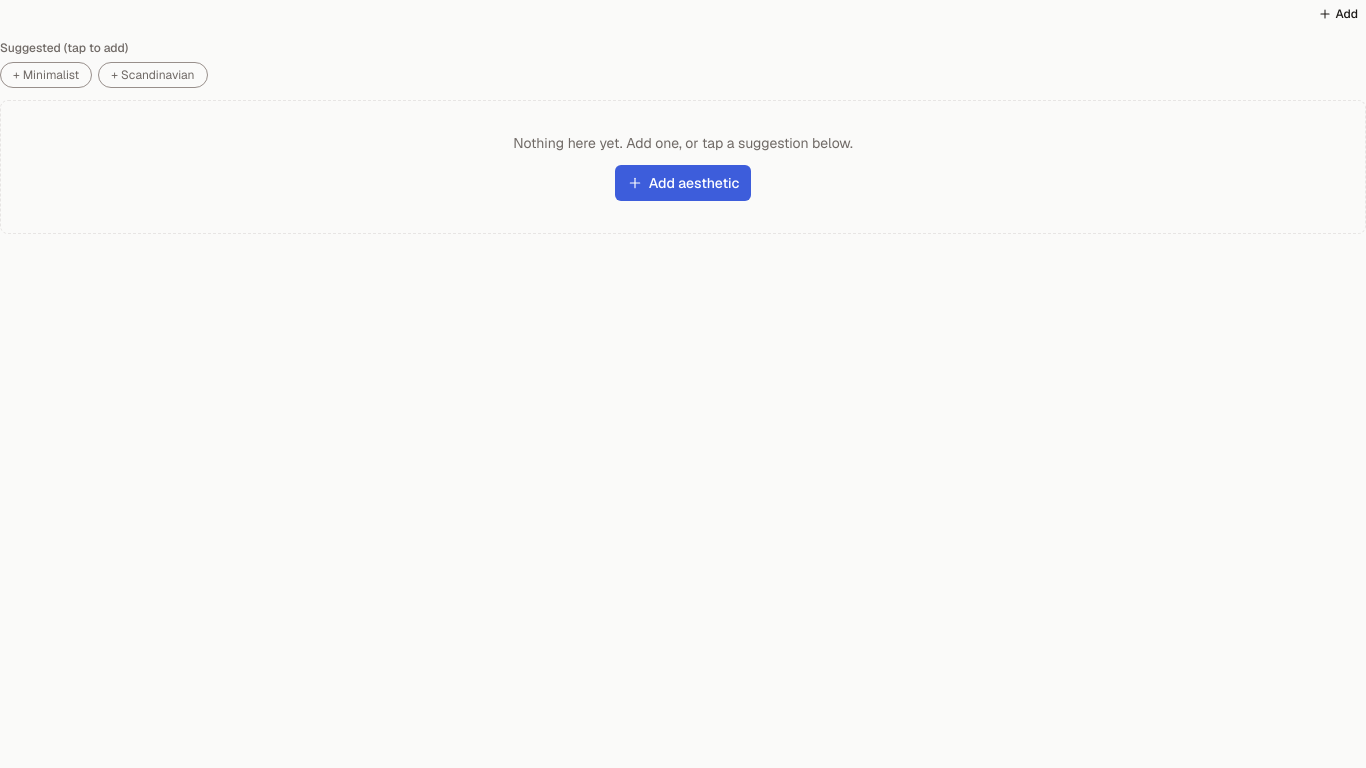
it: ListRenderer › uses node.title, when present, for the Add dialog heading in preference to node.entity
This screenshot has width=1366, height=768.
What coordinates should you click on to do the following:
click the button "Add"
I would click on:
 (1338, 14)
Its box is [1310,0,1365,28].
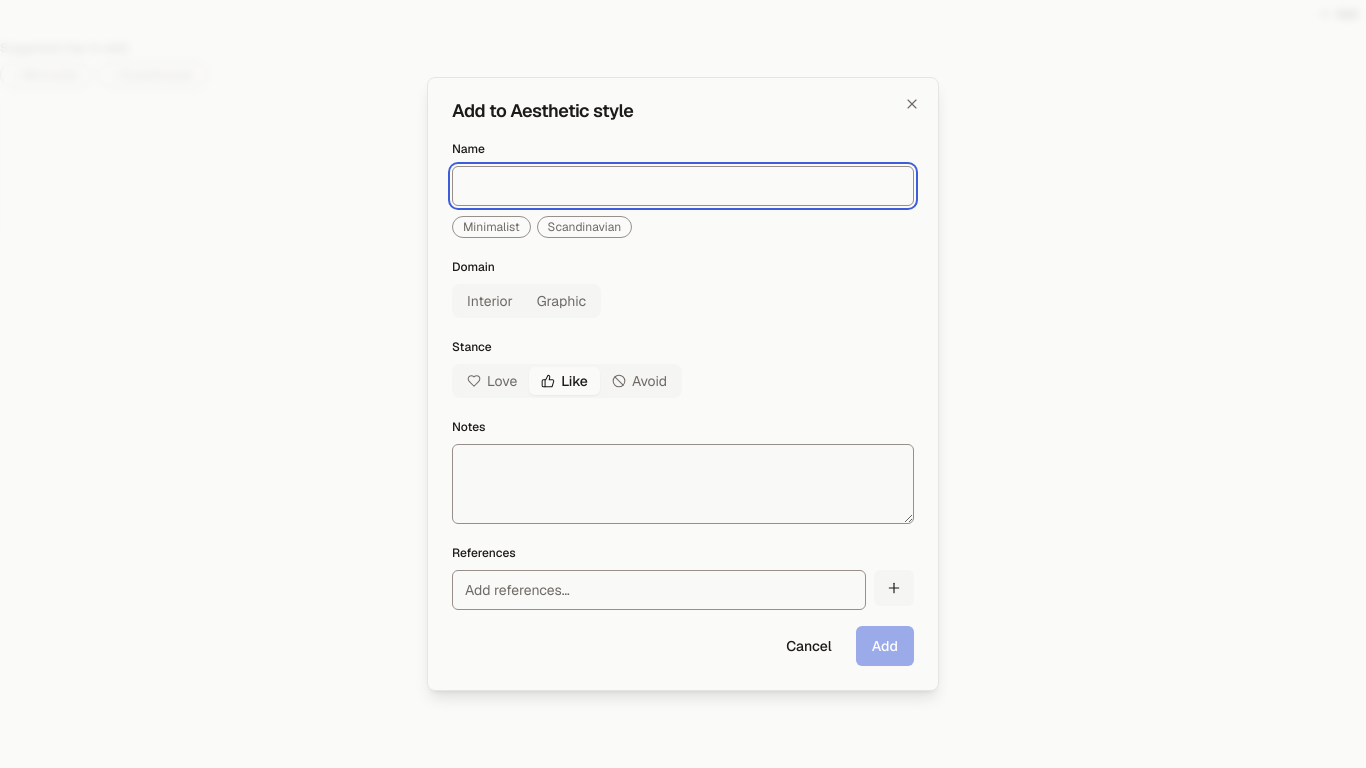
Result: the heading "Add to Aesthetic style" is shown at [452,99,634,122]
